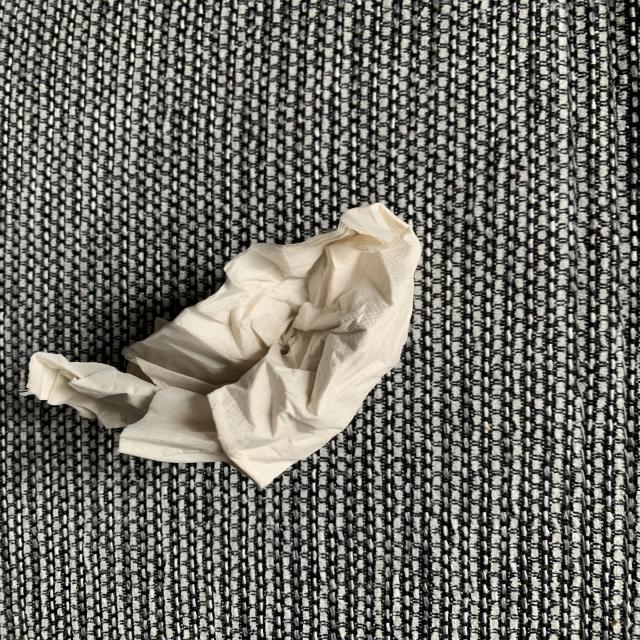kitchen paper: (23, 200, 436, 489)
